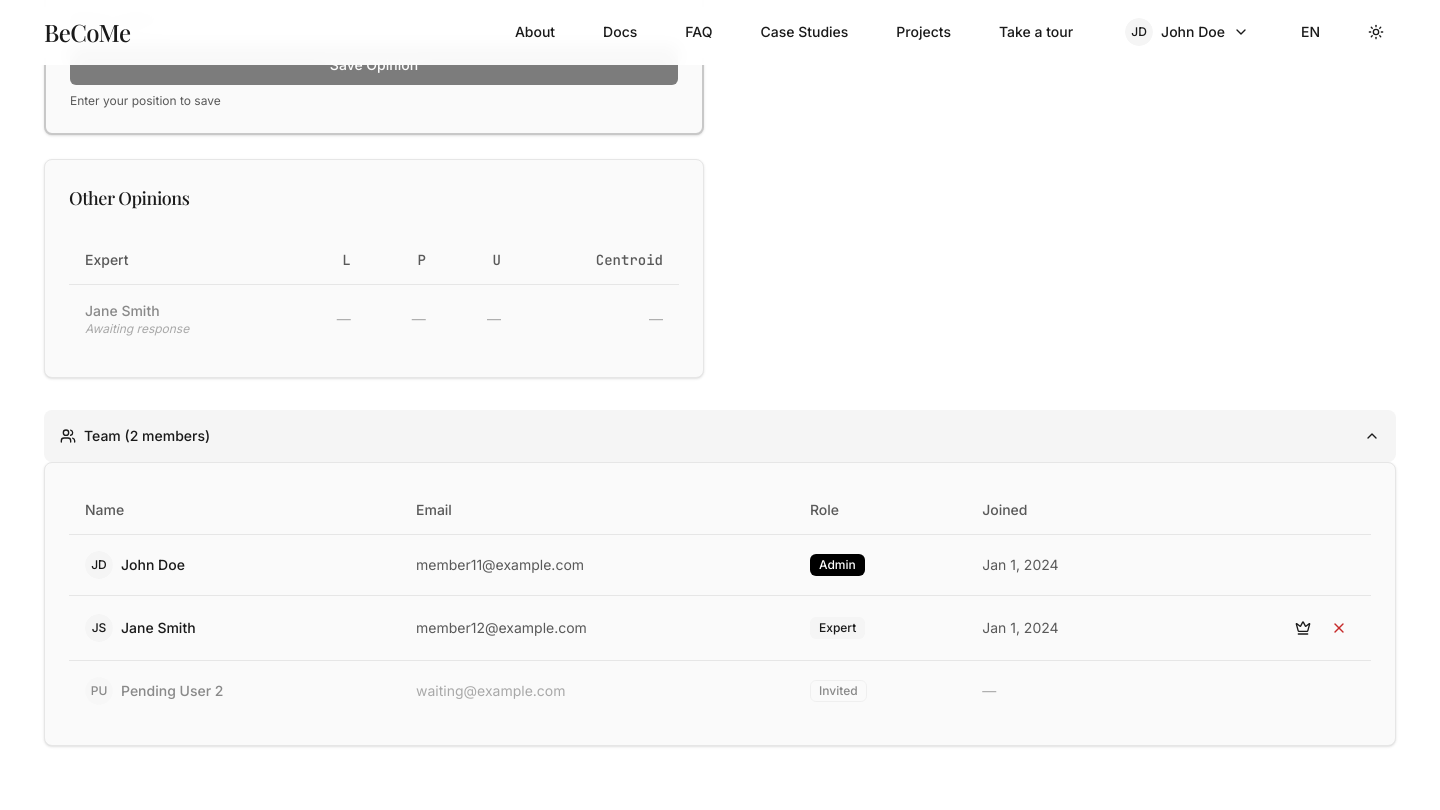
Scenario: ProjectDetail - Invitations after losing the admin role › hides cached pending invitations once the project reports the expert role
This screenshot has width=1440, height=810.
(page scrolled)
Expected: the text "waiting@example.com" is shown, [400,660,794,721]
What coordinates should you click on to do the following:
click the button named "make jane smith the owner"
I would click on:
 (1303, 628)
Its box is [1287,612,1319,644].
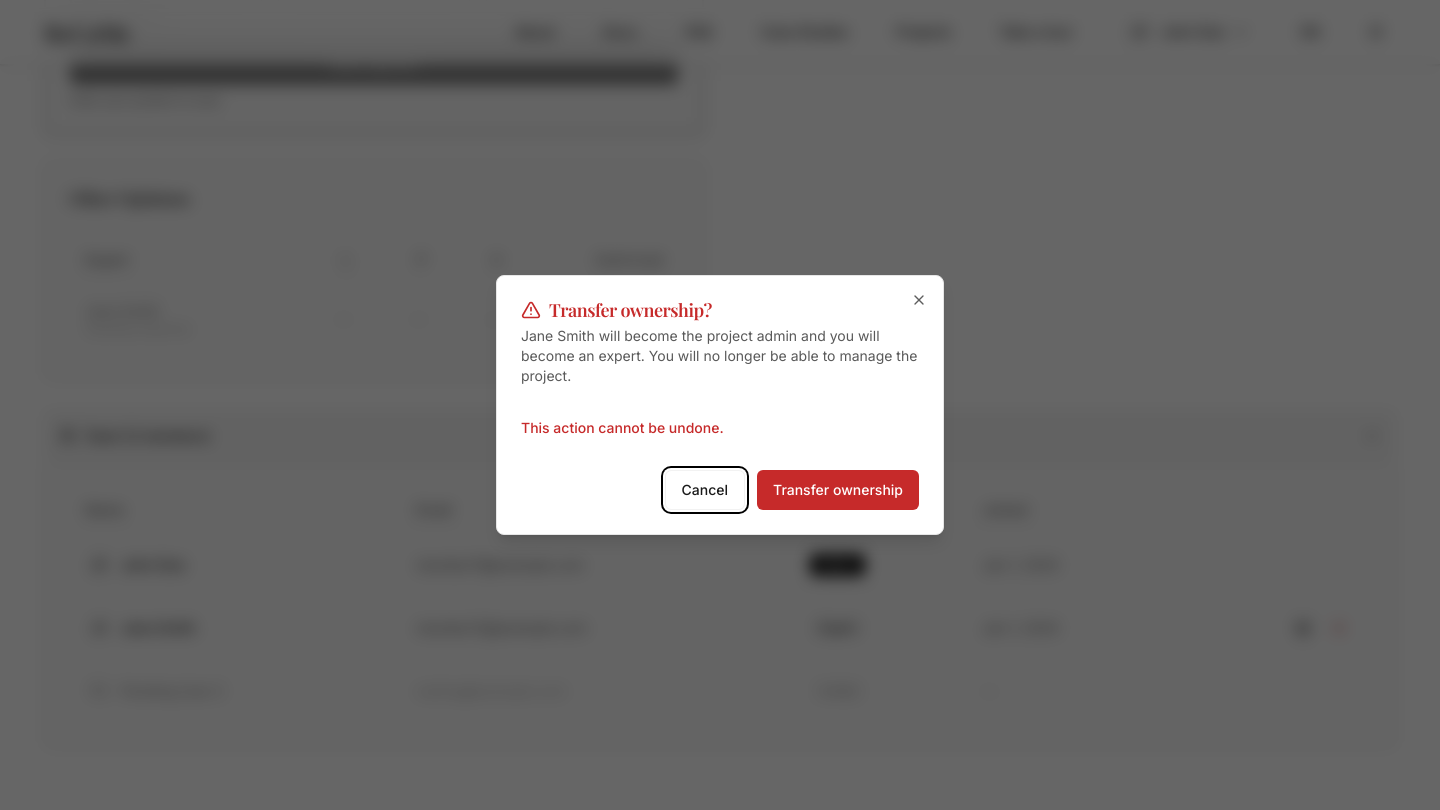
What coordinates should you click on to do the following:
click the button "Transfer ownership"
I would click on:
 (838, 490)
Its box is [757,470,919,510].
(page scrolled)
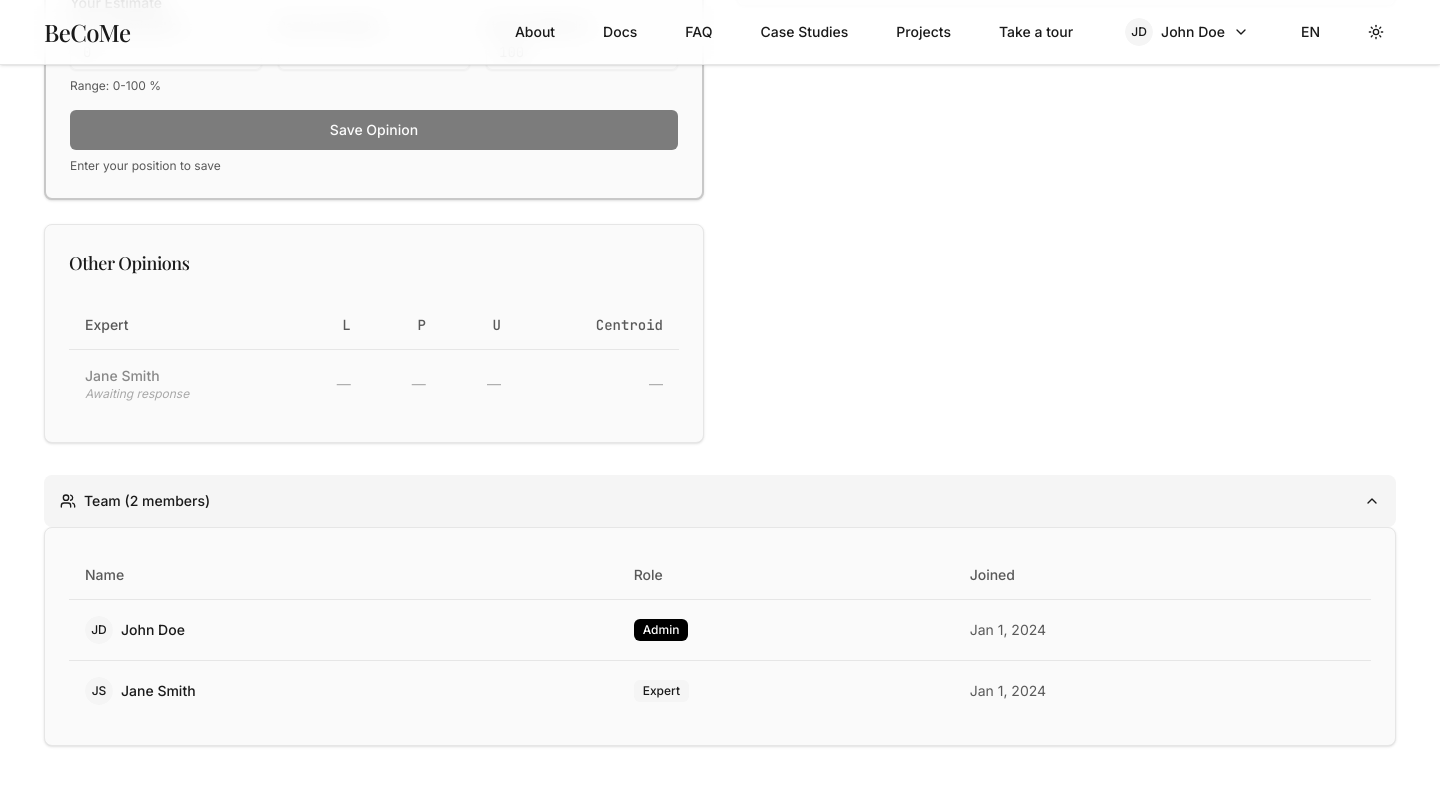
Now the text "waiting@example.com" is gone
